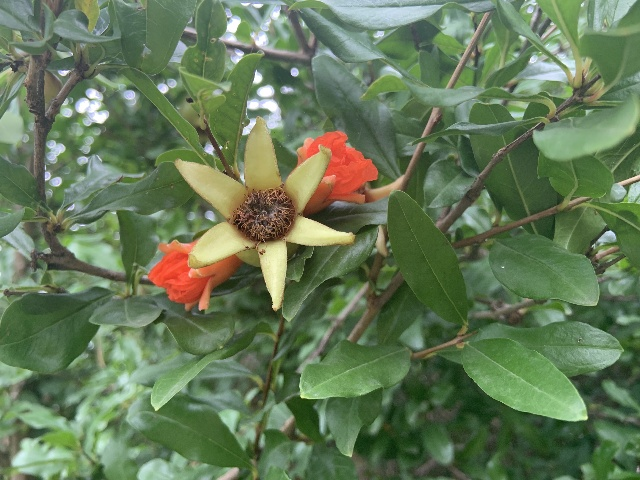early-fruit: (175, 114, 354, 311)
flower: (290, 130, 378, 212), (147, 236, 242, 310)
